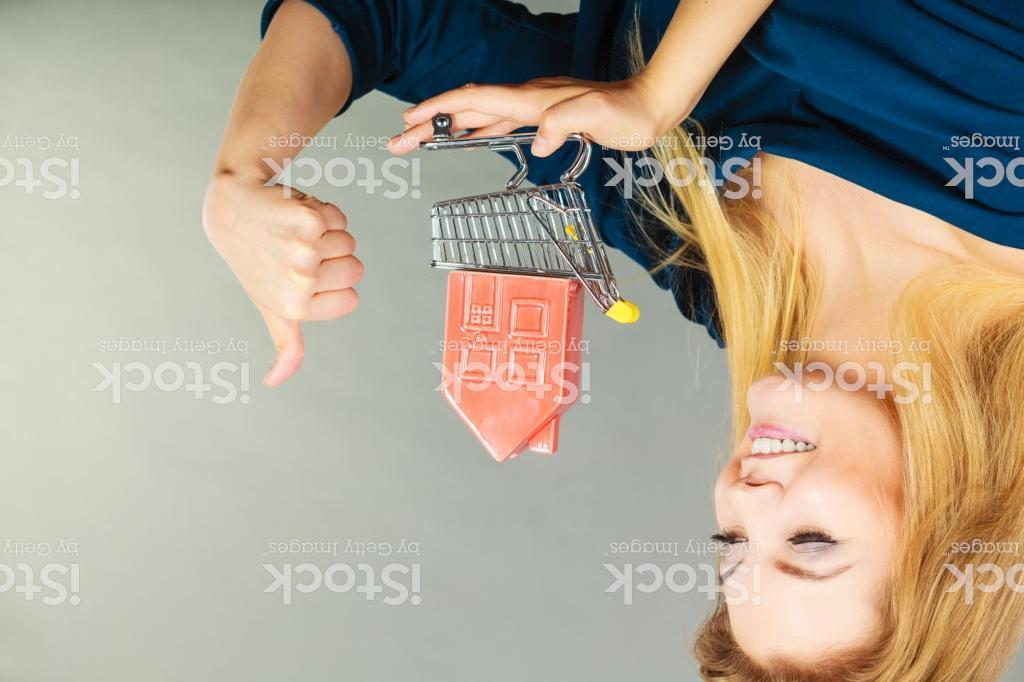thumbsdown: (251, 187, 364, 391)
